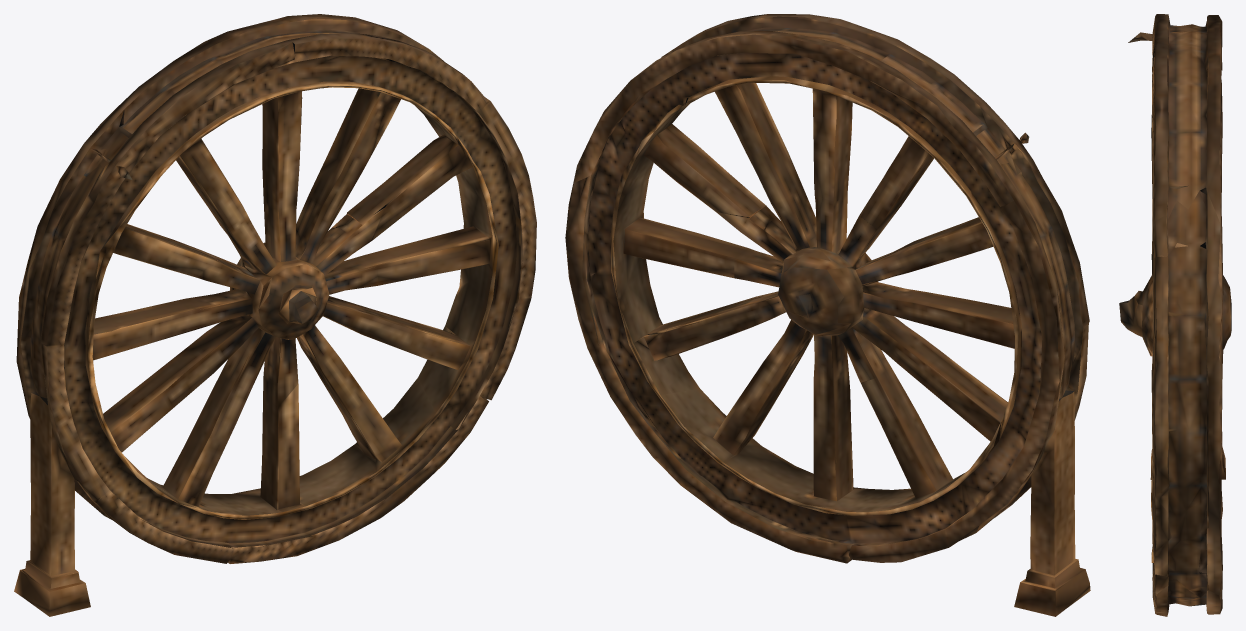
File: waterwheel.glb
3 renders of one model, left to right at view 1: azimuth 30°, elevation 25°; view 2: azimuth 150°, elevation 25°; view 3: azimuth 270°, elevation 25°, orthographic. The views are drawn at different scales.
Visible parts, largest first — view 1: Mesh_0.001; view 2: Mesh_0.001; view 3: Mesh_0.001.
Boxes of the visible parts, box(x1,y1,x2,y2) form: Mesh_0.001: box(14, 14, 536, 616); Mesh_0.001: box(565, 14, 1090, 616); Mesh_0.001: box(1119, 14, 1231, 616).
Bounding box in the file's own units: 1.91 × 1.91 × 0.3564.
1 material, 1 textured.
